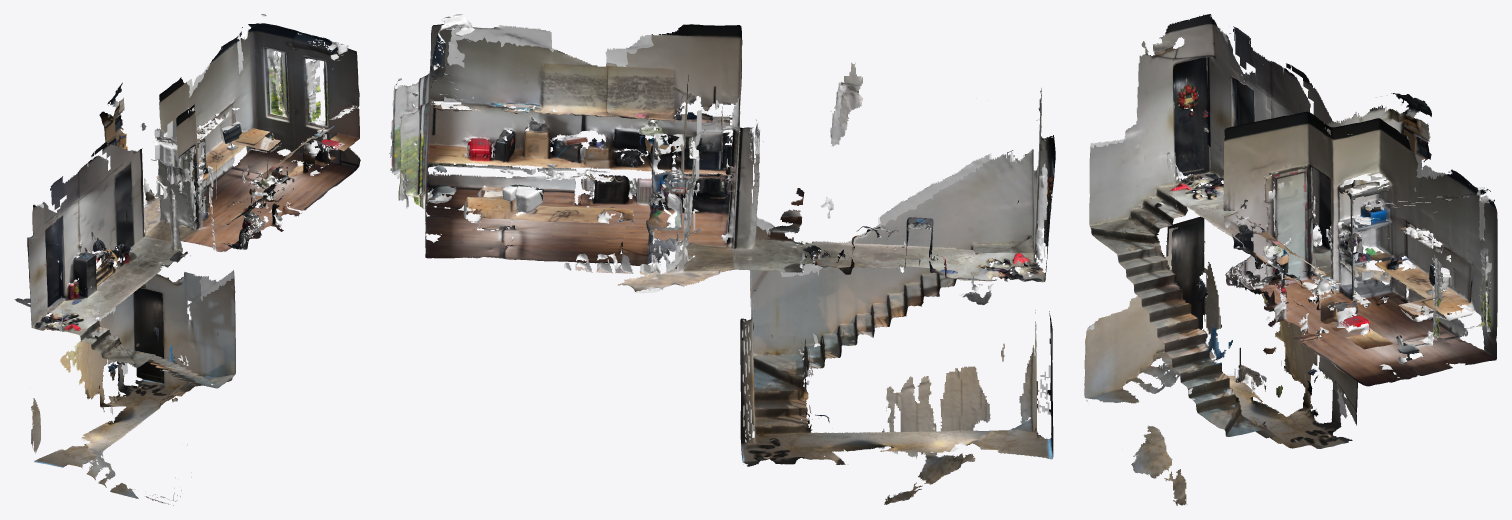
3 views of the same model, side by side, from view 1: azimuth 30°, elevation 25°; view 2: azimuth 150°, elevation 25°; view 3: azimuth 270°, elevation 25° (orthographic). The views are drawn at different scales.
Parts seen in each view (by area): view 1: texture_9, texture_5, texture_0, texture_2, texture_3, object 4, texture_8, texture_13, texture_6, texture_12, texture_11, texture_4 (+3 smaller); view 2: texture_4, texture_11, object 4, texture_7, texture_8, texture_13, texture_9, texture_0, texture_10, texture_12, texture_5, texture_2 (+3 smaller); view 3: texture_8, texture_0, texture_1, texture_7, texture_12, texture_10, texture_4, object 4, texture_3, texture_9, texture_2, texture_6 (+3 smaller).
Boxes of the visible parts, x1,y1,x2,y2 form: texture_9: (239, 23, 360, 174); texture_5: (110, 272, 235, 505); texture_0: (110, 36, 319, 227); texture_2: (42, 142, 185, 317); texture_3: (40, 82, 201, 345); object 4: (15, 14, 356, 469); texture_8: (31, 311, 235, 498); texture_13: (111, 144, 287, 268); texture_6: (27, 204, 142, 317); texture_12: (110, 78, 297, 265); texture_11: (266, 108, 359, 229); texture_4: (60, 327, 235, 504); texture_4: (743, 152, 1044, 504); texture_11: (427, 37, 648, 212); object 4: (400, 14, 1053, 498); texture_7: (615, 24, 862, 249); texture_8: (753, 310, 1053, 464); texture_13: (607, 52, 862, 291); texture_9: (389, 24, 568, 258); texture_0: (398, 130, 731, 270); texture_10: (446, 77, 1036, 294); texture_12: (562, 75, 734, 285); texture_5: (740, 226, 888, 504); texture_2: (695, 95, 984, 274); texture_8: (1084, 216, 1341, 442); texture_0: (1313, 92, 1497, 372); texture_1: (1122, 14, 1238, 258); texture_7: (1167, 112, 1353, 311); texture_12: (1226, 118, 1434, 332); texture_10: (1089, 135, 1377, 358); texture_4: (1084, 143, 1287, 503); object 4: (1087, 14, 1494, 505); texture_3: (1144, 93, 1431, 239); texture_9: (1325, 189, 1497, 386); texture_2: (1187, 26, 1340, 238); texture_6: (1189, 17, 1330, 253).
Size of the model in its own units: 10.45 by 8.94 by 7.45.
Materials: 15 (14 with a texture image).
